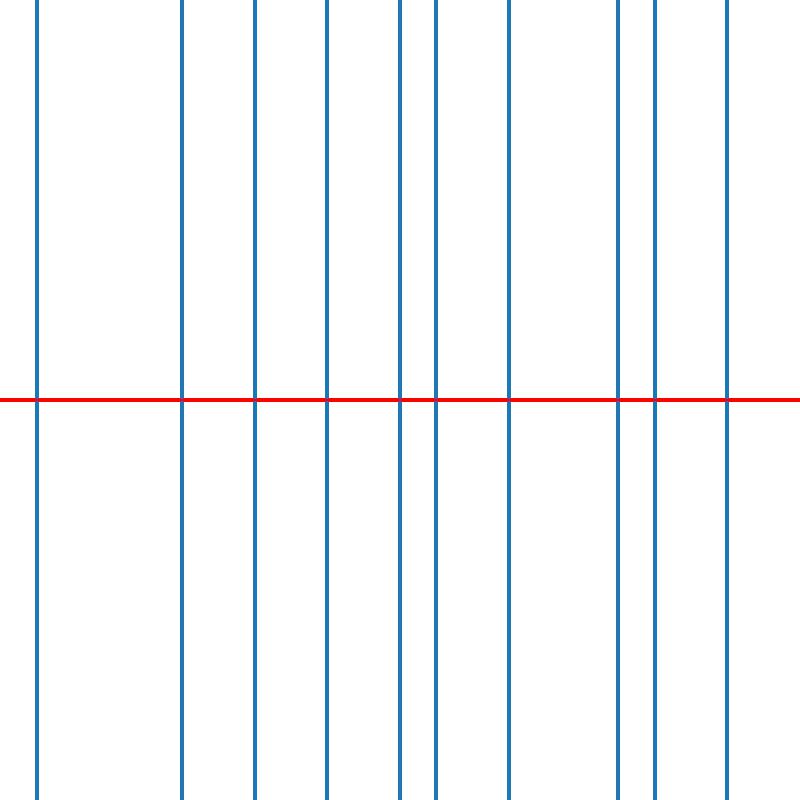root: (432, 396, 440, 404), (650, 396, 658, 404), (250, 396, 258, 404), (32, 396, 40, 404), (323, 396, 330, 404), (723, 396, 730, 404), (396, 396, 403, 404), (505, 396, 512, 404), (178, 396, 185, 404), (614, 396, 621, 404)
